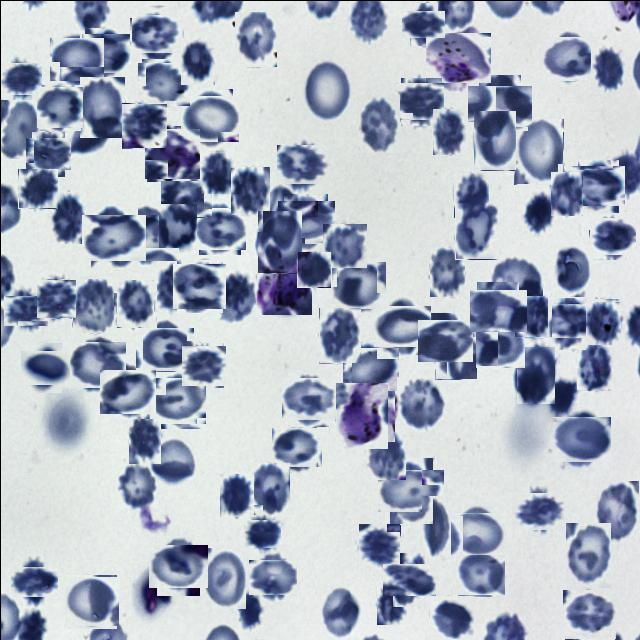difficult: (332, 385, 391, 444), (255, 262, 311, 314)
red blood cell: (513, 118, 563, 184), (300, 59, 350, 123), (86, 209, 142, 265), (564, 522, 610, 588), (383, 463, 438, 517), (119, 210, 174, 264), (594, 480, 640, 542), (256, 210, 301, 273), (448, 507, 501, 560), (472, 80, 526, 132), (396, 376, 446, 432), (182, 92, 235, 144), (70, 337, 122, 390), (79, 76, 124, 137), (201, 547, 245, 609), (555, 413, 607, 465), (65, 575, 117, 627), (151, 374, 203, 426), (563, 588, 615, 640), (138, 323, 190, 374), (152, 540, 204, 590), (472, 110, 515, 170), (332, 260, 383, 310), (280, 196, 330, 247), (70, 278, 116, 333), (544, 32, 594, 82), (345, 344, 395, 394), (102, 366, 152, 416), (474, 317, 524, 367), (472, 285, 522, 335), (150, 435, 197, 488), (454, 202, 497, 259), (377, 300, 426, 350), (51, 34, 100, 84), (174, 260, 223, 310), (284, 374, 333, 423), (490, 254, 542, 300), (358, 94, 399, 152), (318, 307, 360, 363), (419, 316, 468, 364), (234, 11, 276, 66), (195, 204, 243, 252), (139, 60, 187, 108), (0, 99, 39, 158), (515, 346, 554, 404), (114, 462, 159, 512), (434, 326, 476, 379), (574, 162, 621, 209), (456, 548, 504, 594), (248, 462, 289, 515), (81, 30, 128, 76), (133, 10, 180, 56), (544, 297, 590, 343), (120, 102, 166, 148), (279, 141, 325, 187), (552, 243, 590, 297), (274, 424, 318, 470), (365, 429, 405, 479), (516, 488, 560, 533), (115, 279, 156, 327), (218, 272, 255, 325), (322, 223, 366, 267), (37, 85, 81, 129), (429, 595, 473, 639), (48, 191, 85, 243), (164, 177, 208, 220), (153, 260, 190, 311), (230, 166, 269, 214), (421, 495, 450, 559), (250, 556, 294, 598), (576, 341, 613, 390), (182, 343, 224, 386), (356, 524, 399, 566), (387, 558, 430, 600), (398, 80, 440, 122), (590, 214, 632, 256), (321, 587, 357, 636), (23, 346, 65, 388), (429, 247, 464, 296), (584, 298, 620, 345), (158, 203, 196, 247), (17, 168, 57, 208), (431, 108, 465, 155), (590, 43, 624, 90), (513, 295, 551, 337), (453, 172, 488, 217), (36, 278, 75, 318), (218, 473, 253, 517), (180, 39, 214, 84), (28, 134, 67, 173), (13, 562, 53, 600), (0, 59, 38, 97), (128, 418, 160, 463), (200, 150, 234, 192), (550, 171, 582, 215), (6, 292, 44, 328), (376, 580, 406, 624), (405, 6, 441, 42), (522, 192, 554, 232), (296, 251, 330, 287), (246, 516, 278, 548)
trophozoite: (428, 28, 486, 86), (144, 126, 198, 180)
